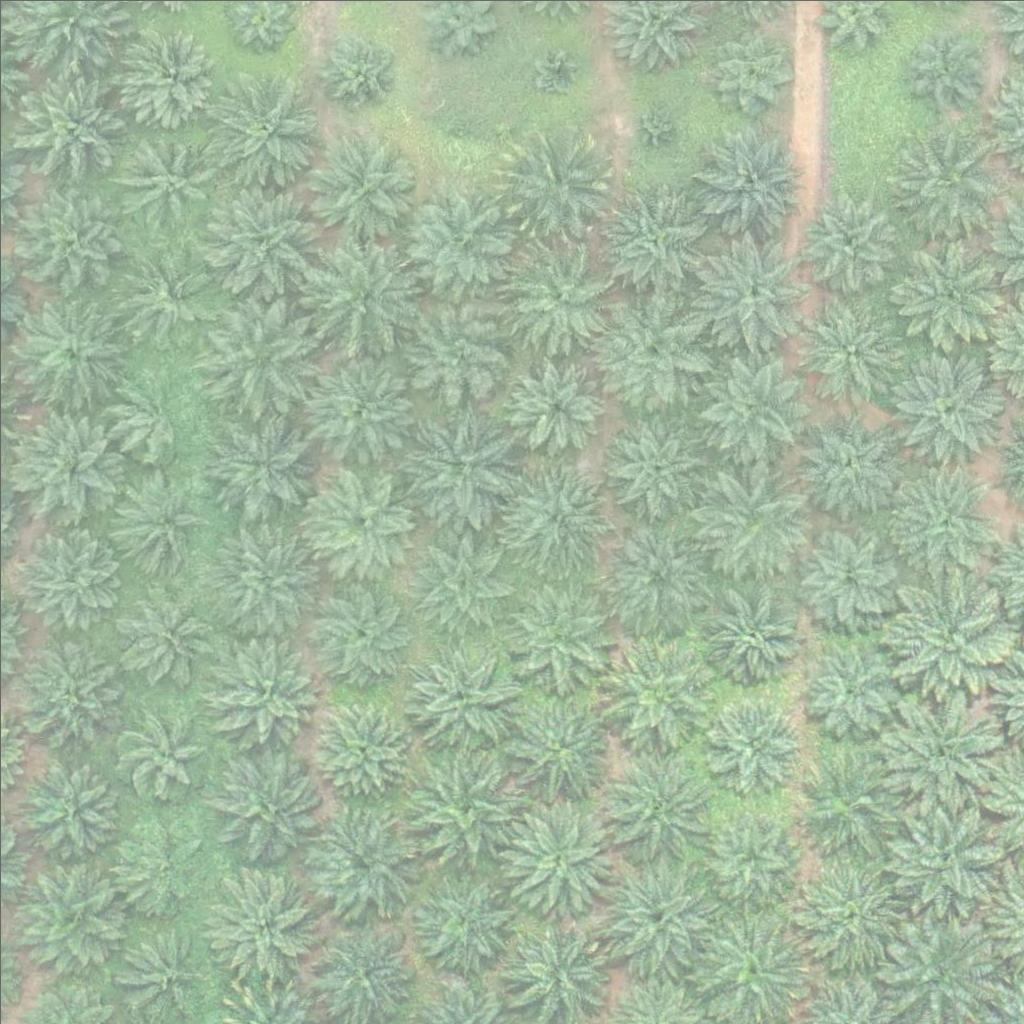Kelapa_Sawit: (598, 752, 711, 866), (500, 576, 613, 690), (208, 81, 321, 195), (305, 350, 418, 464), (308, 240, 421, 354), (407, 521, 520, 635), (405, 411, 518, 525), (497, 456, 610, 570), (888, 799, 1001, 912), (886, 693, 999, 806), (892, 578, 1005, 691), (597, 860, 710, 973), (503, 799, 616, 912), (501, 690, 614, 803), (207, 869, 320, 982), (212, 752, 325, 865), (208, 630, 321, 743), (10, 522, 123, 635), (8, 408, 121, 521), (17, 295, 130, 408), (11, 178, 124, 291), (303, 131, 416, 244), (401, 291, 514, 404), (693, 347, 806, 460), (693, 234, 806, 347), (690, 119, 803, 232), (795, 298, 908, 411), (788, 859, 900, 973), (598, 627, 710, 741), (12, 66, 124, 180), (205, 300, 317, 414), (203, 183, 315, 297), (500, 130, 612, 243), (791, 745, 903, 858), (602, 519, 714, 632), (411, 866, 523, 979), (412, 750, 524, 863), (404, 636, 516, 749), (309, 803, 421, 916), (305, 579, 417, 692), (206, 522, 318, 635), (8, 859, 120, 972), (10, 751, 122, 864), (207, 407, 319, 520), (307, 464, 419, 577), (397, 184, 509, 297), (502, 240, 614, 353), (602, 294, 714, 407), (598, 187, 710, 300), (699, 465, 811, 578), (887, 461, 999, 574), (890, 350, 1002, 463), (885, 238, 997, 351), (886, 131, 998, 244), (799, 640, 899, 741), (797, 521, 897, 622), (697, 579, 797, 680), (312, 700, 412, 801), (14, 639, 114, 740), (109, 473, 209, 574), (505, 355, 605, 456), (603, 414, 703, 515), (797, 417, 897, 518), (796, 190, 896, 291), (121, 22, 221, 123), (702, 693, 802, 793), (117, 247, 217, 347), (113, 128, 213, 228), (708, 808, 796, 896), (117, 927, 205, 1015), (112, 369, 200, 457), (114, 823, 201, 911), (119, 709, 206, 797), (118, 593, 205, 681), (704, 23, 791, 111), (314, 23, 401, 111), (903, 25, 978, 101), (626, 102, 676, 153), (532, 46, 582, 97), (435, 110, 485, 160)
